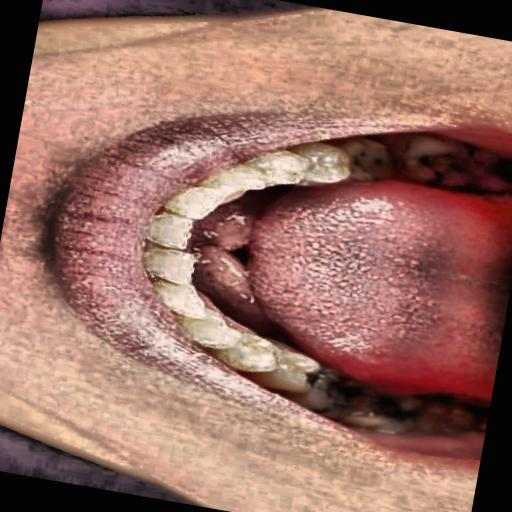Caries: (298, 350, 453, 449), (342, 110, 474, 208)
